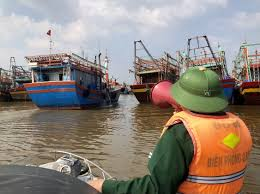tau_dansu: (23, 55, 125, 112), (185, 32, 242, 115), (126, 47, 180, 104)
